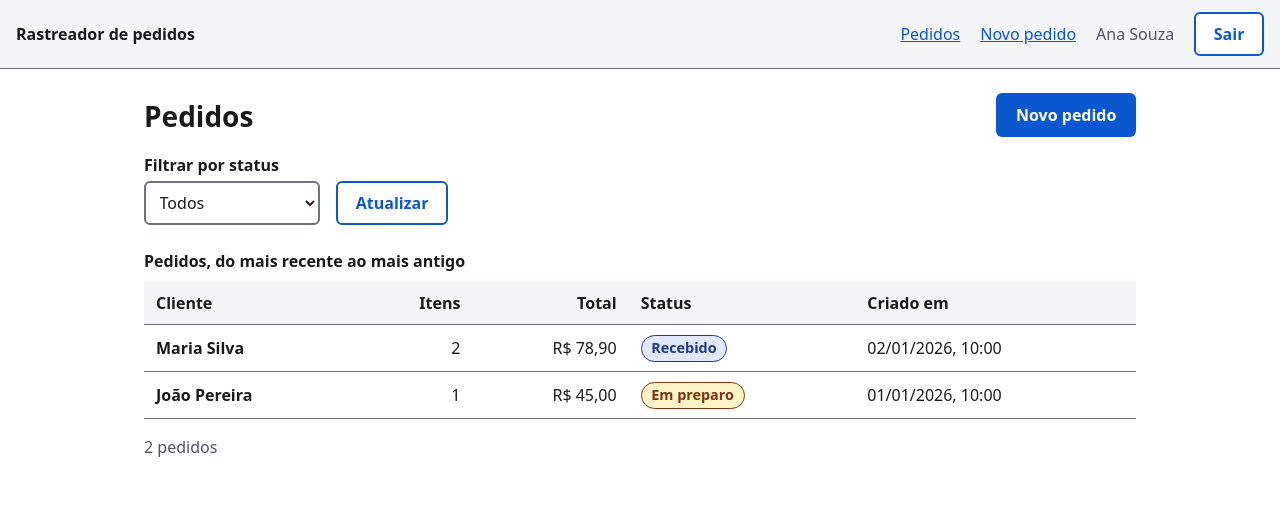
OrderListPage › "Atualizar" recarrega da API e mostra o pedido novo
Expected: the heading "Pedidos" is shown, [144,95,253,137]
Expected: the table is shown, [144,241,1136,419]
What coordinates should you click on to do the following:
click the button "Atualizar"
I would click on:
 (392, 203)
Its box is [336,181,448,225].
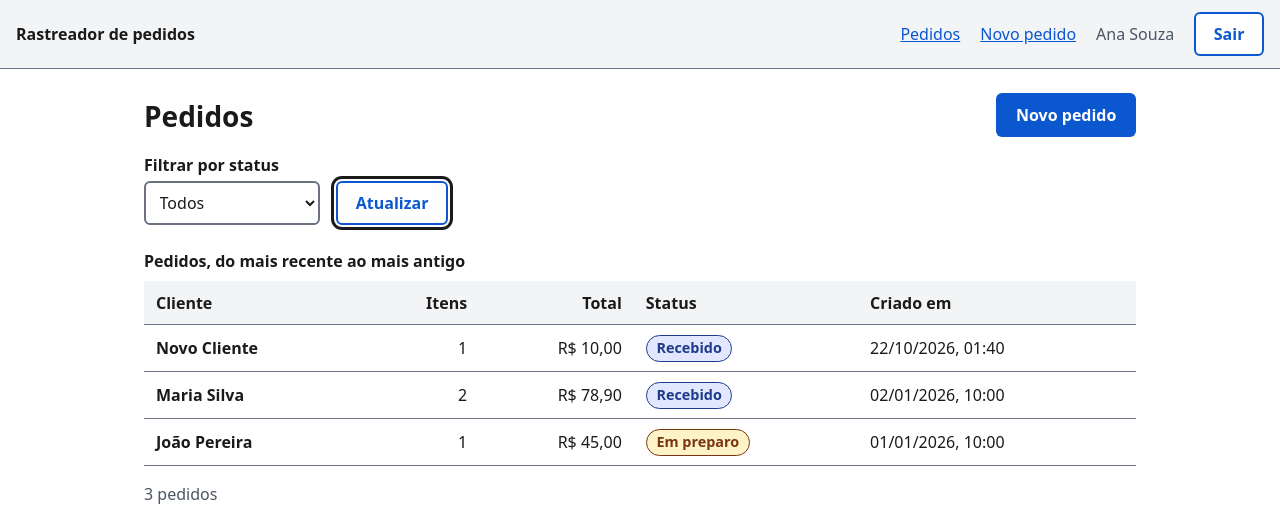
Now the column heading "Novo Cliente" is shown, box [144,325,365,372]
